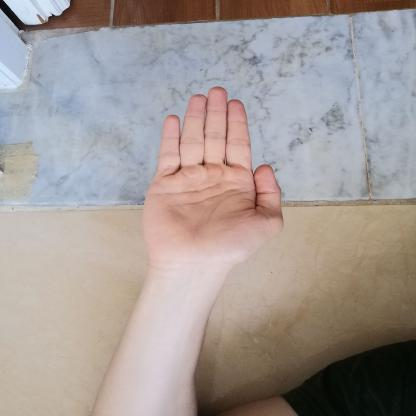SEEN: (128, 81, 297, 283)
